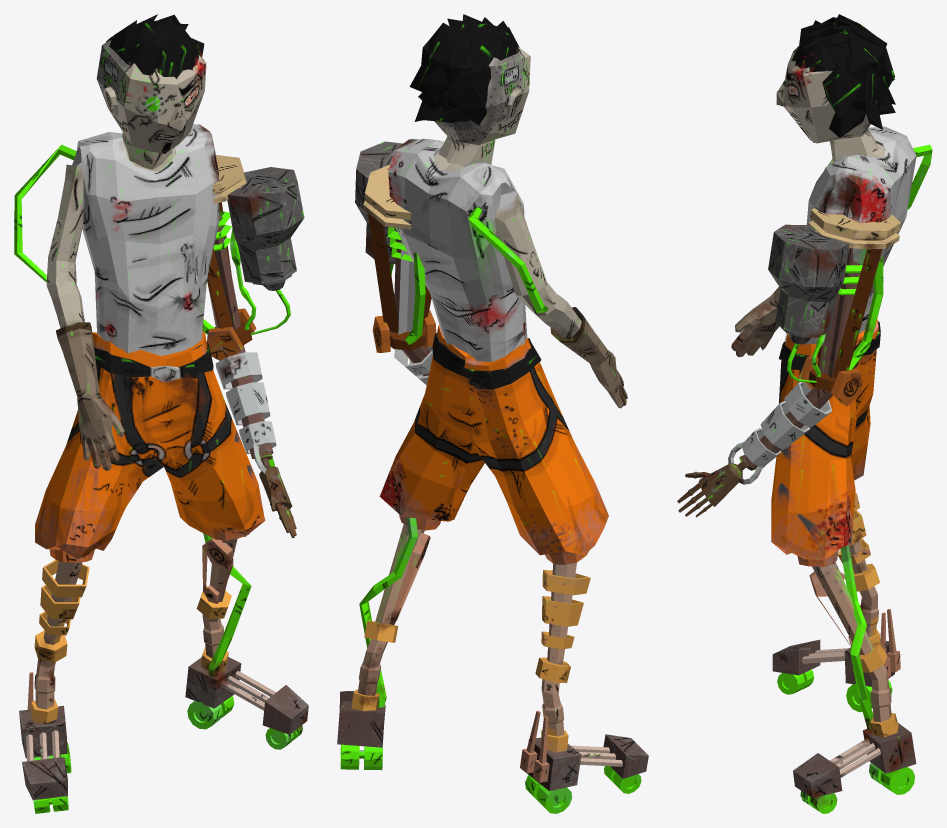
File: CyborgFINALAnimation_000142.obj
The picture shows the model from 3 angles, left to right: view 1: azimuth 30°, elevation 25°; view 2: azimuth 150°, elevation 25°; view 3: azimuth 270°, elevation 25°; orthographic projection. The views are drawn at different scales.
Visible parts, largest first — view 1: CyborgMesh_Cube.002; view 2: CyborgMesh_Cube.002; view 3: CyborgMesh_Cube.002.
Part boxes in pixels (<box>): CyborgMesh_Cube.002: <box>14,14,308,813</box>; CyborgMesh_Cube.002: <box>337,14,648,813</box>; CyborgMesh_Cube.002: <box>677,14,932,813</box>.
Bounding box in the file's own units: 3.89 × 9.62 × 3.04.
